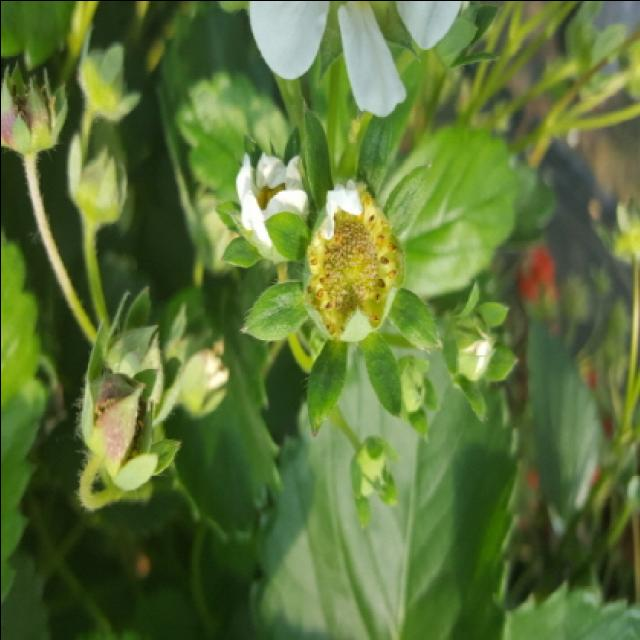Blossom Blight: (302, 188, 405, 338)
